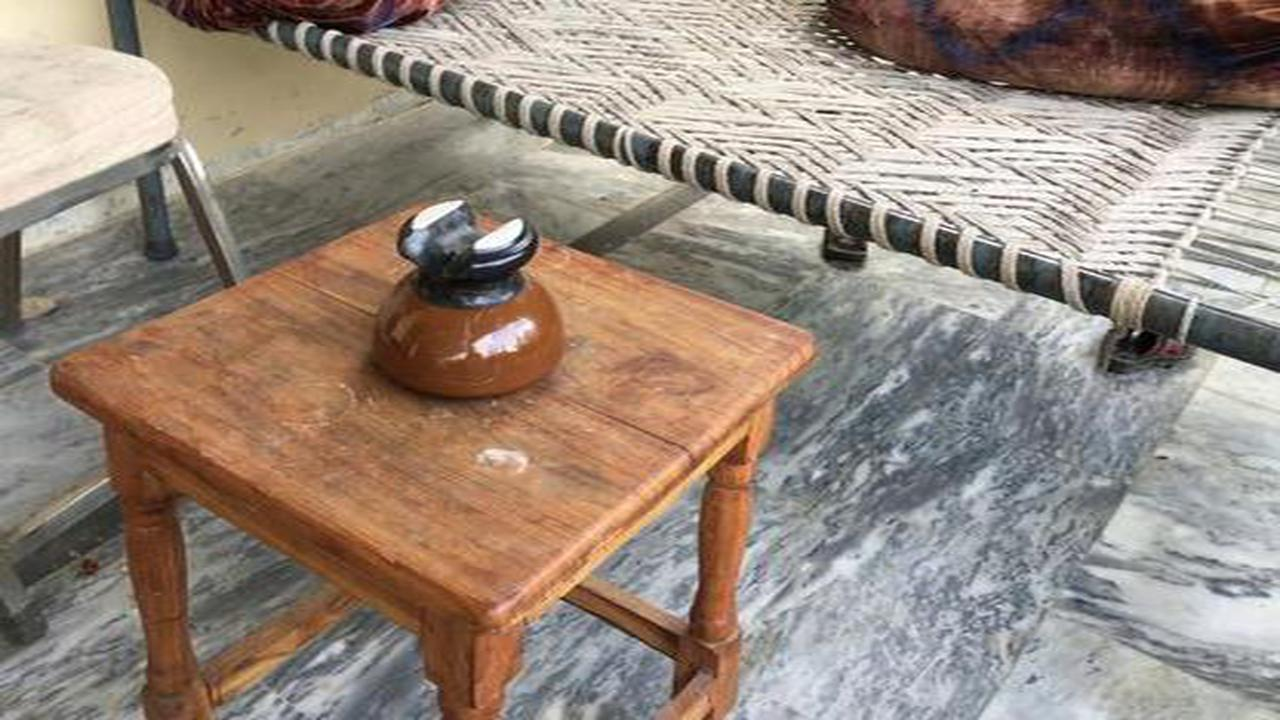insulator_pin: (361, 183, 579, 416)
